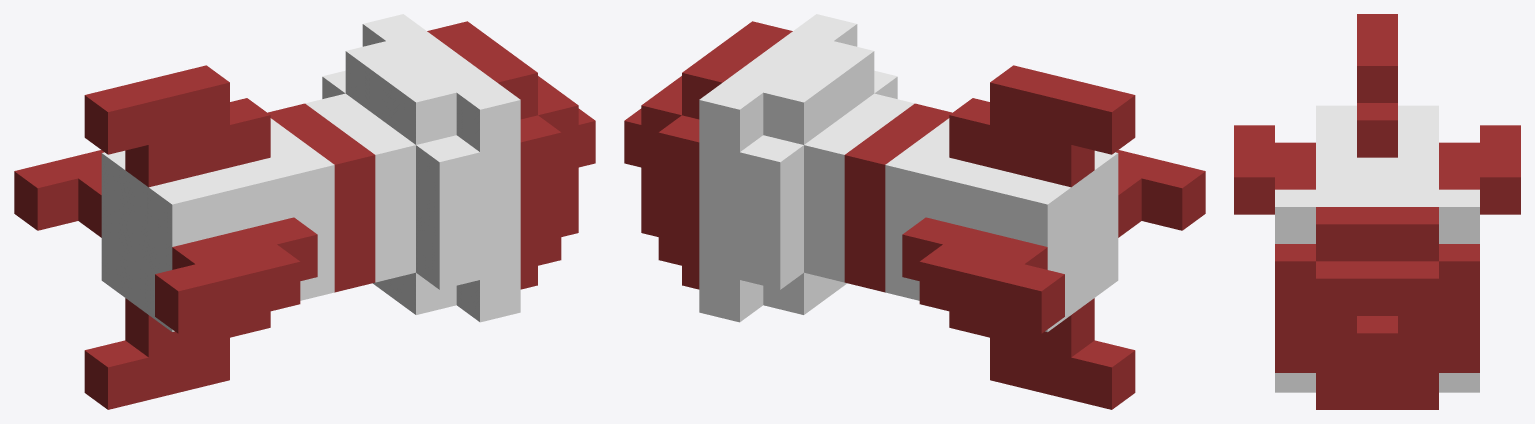
File: missile.glb
3 renders of one model, left to right at view 1: azimuth 30°, elevation 25°; view 2: azimuth 150°, elevation 25°; view 3: azimuth 270°, elevation 25°, orthographic. The views are drawn at different scales.
Parts seen in each view (by area): view 1: Layer.1; view 2: Layer.1; view 3: Layer.1.
Boxes of the visible parts, x1,y1,x2,y2 form: Layer.1: [14, 14, 595, 409]; Layer.1: [624, 14, 1205, 409]; Layer.1: [1234, 14, 1520, 409].
Bounding box in the file's own units: 12 × 7 × 7.
1 material, 1 textured.
